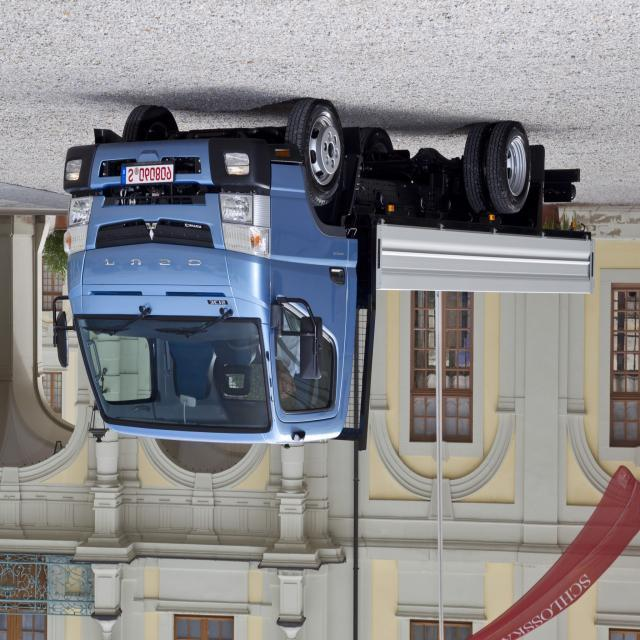truck: (49, 105, 594, 454)
